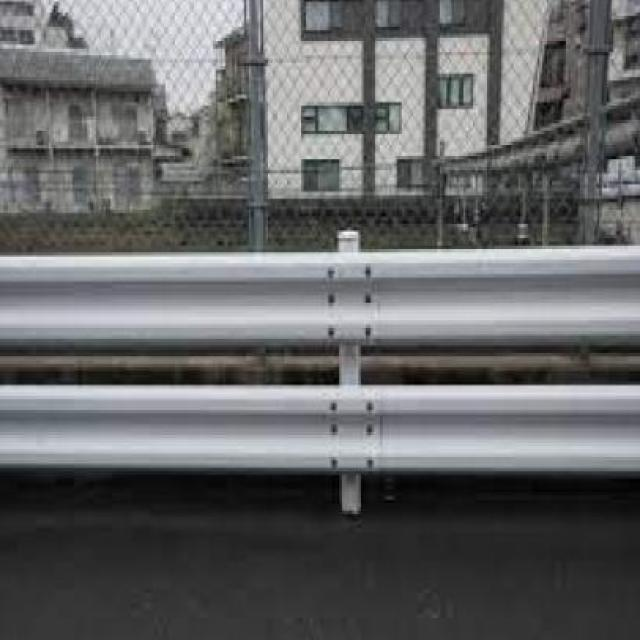Guard rail: (0, 228, 640, 524)
